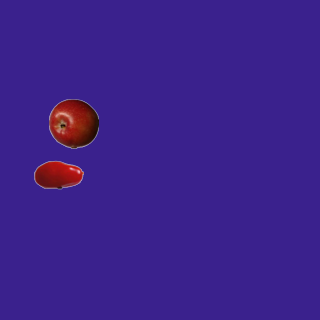Apple Braeburn: (48, 98, 98, 148)
Tomato 2: (33, 149, 83, 199)
